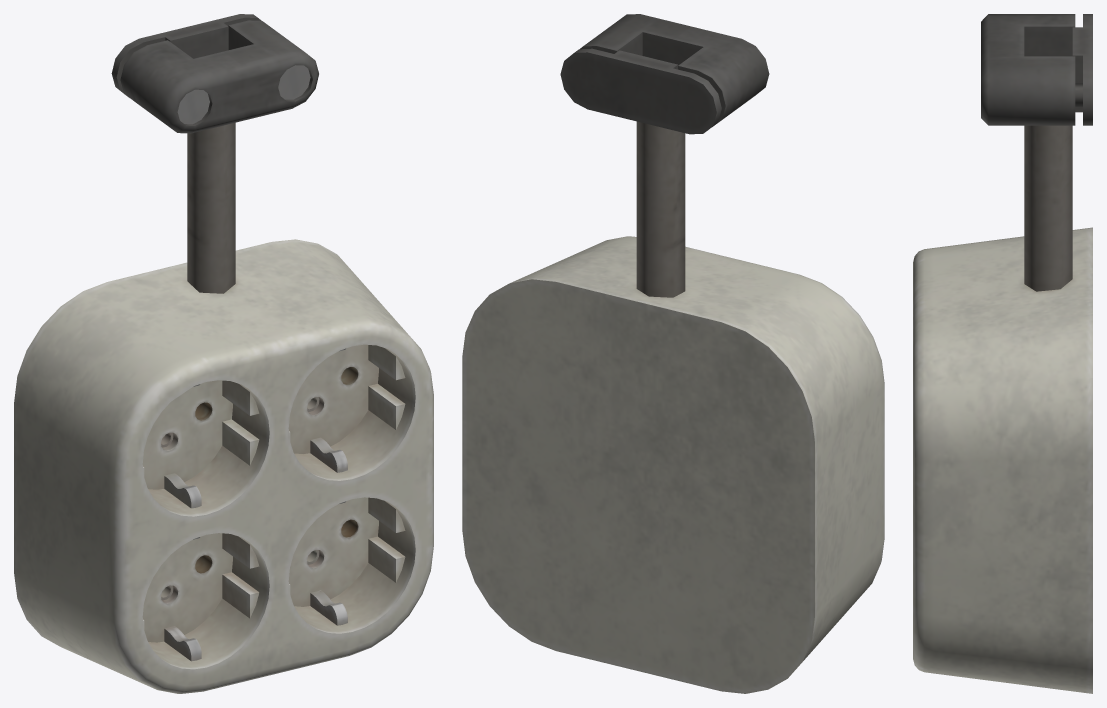
Rendered from cable_plug_4x.glb.
3 renders of one model, left to right at view 1: azimuth 30°, elevation 25°; view 2: azimuth 150°, elevation 25°; view 3: azimuth 270°, elevation 25°, orthographic.
Parts seen in each view (by area): view 1: cable_plug_4x.001; view 2: cable_plug_4x.001; view 3: cable_plug_4x.001.
Boxes of the visible parts, x1,y1,x2,y2 form: cable_plug_4x.001: [14, 14, 433, 693]; cable_plug_4x.001: [462, 14, 884, 693]; cable_plug_4x.001: [913, 14, 1092, 693].
Bounding box in the file's own units: 0.0939 × 0.1542 × 0.0417.
Materials: 1 (1 with a texture image).
